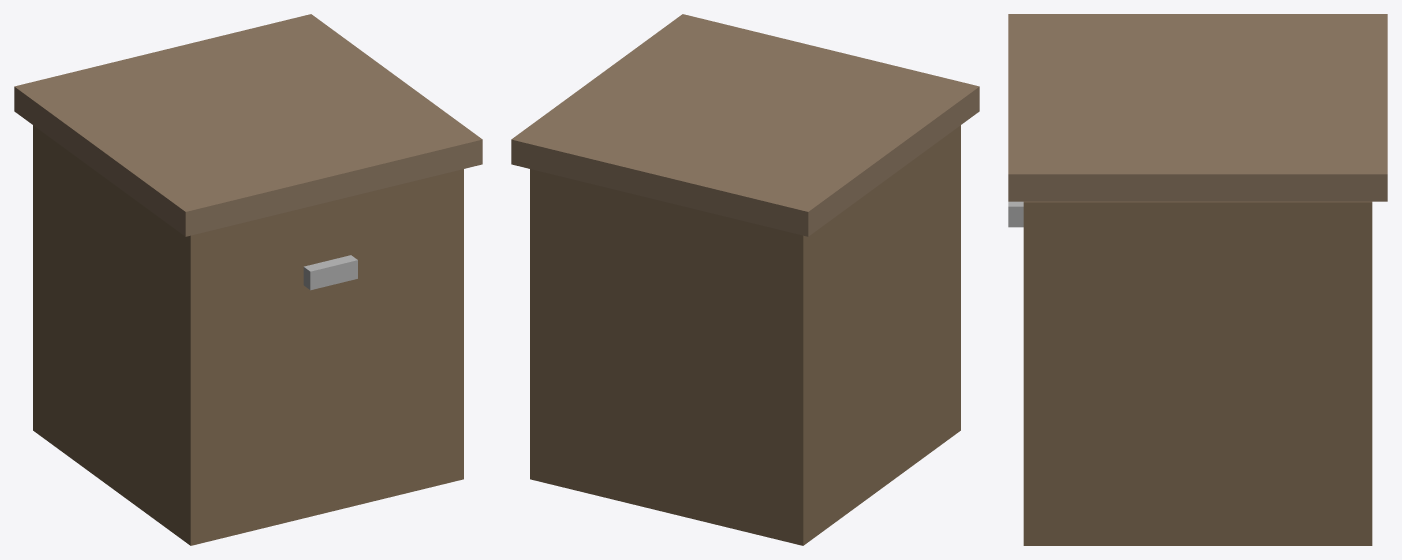
Rendered from sideTable.glb.
3 views of the same model, side by side, from view 1: azimuth 30°, elevation 25°; view 2: azimuth 150°, elevation 25°; view 3: azimuth 270°, elevation 25° (orthographic). The views are drawn at different scales.
Size of the model in its own units: 0.5 by 0.55 by 0.5.
